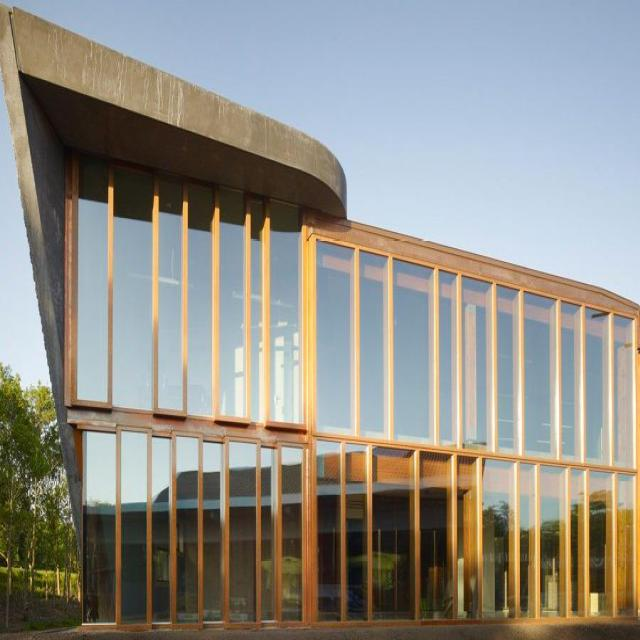plant: (0, 363, 83, 636)
wall: (0, 6, 637, 631)
windows: (317, 241, 636, 621), (78, 158, 305, 423), (83, 431, 305, 621)
